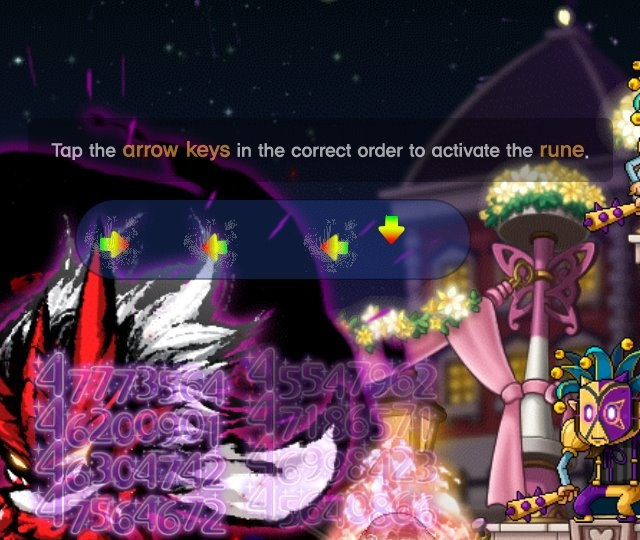down: (369, 212, 413, 249)
left: (314, 230, 357, 265), (195, 229, 235, 265)
right: (93, 227, 135, 263)
